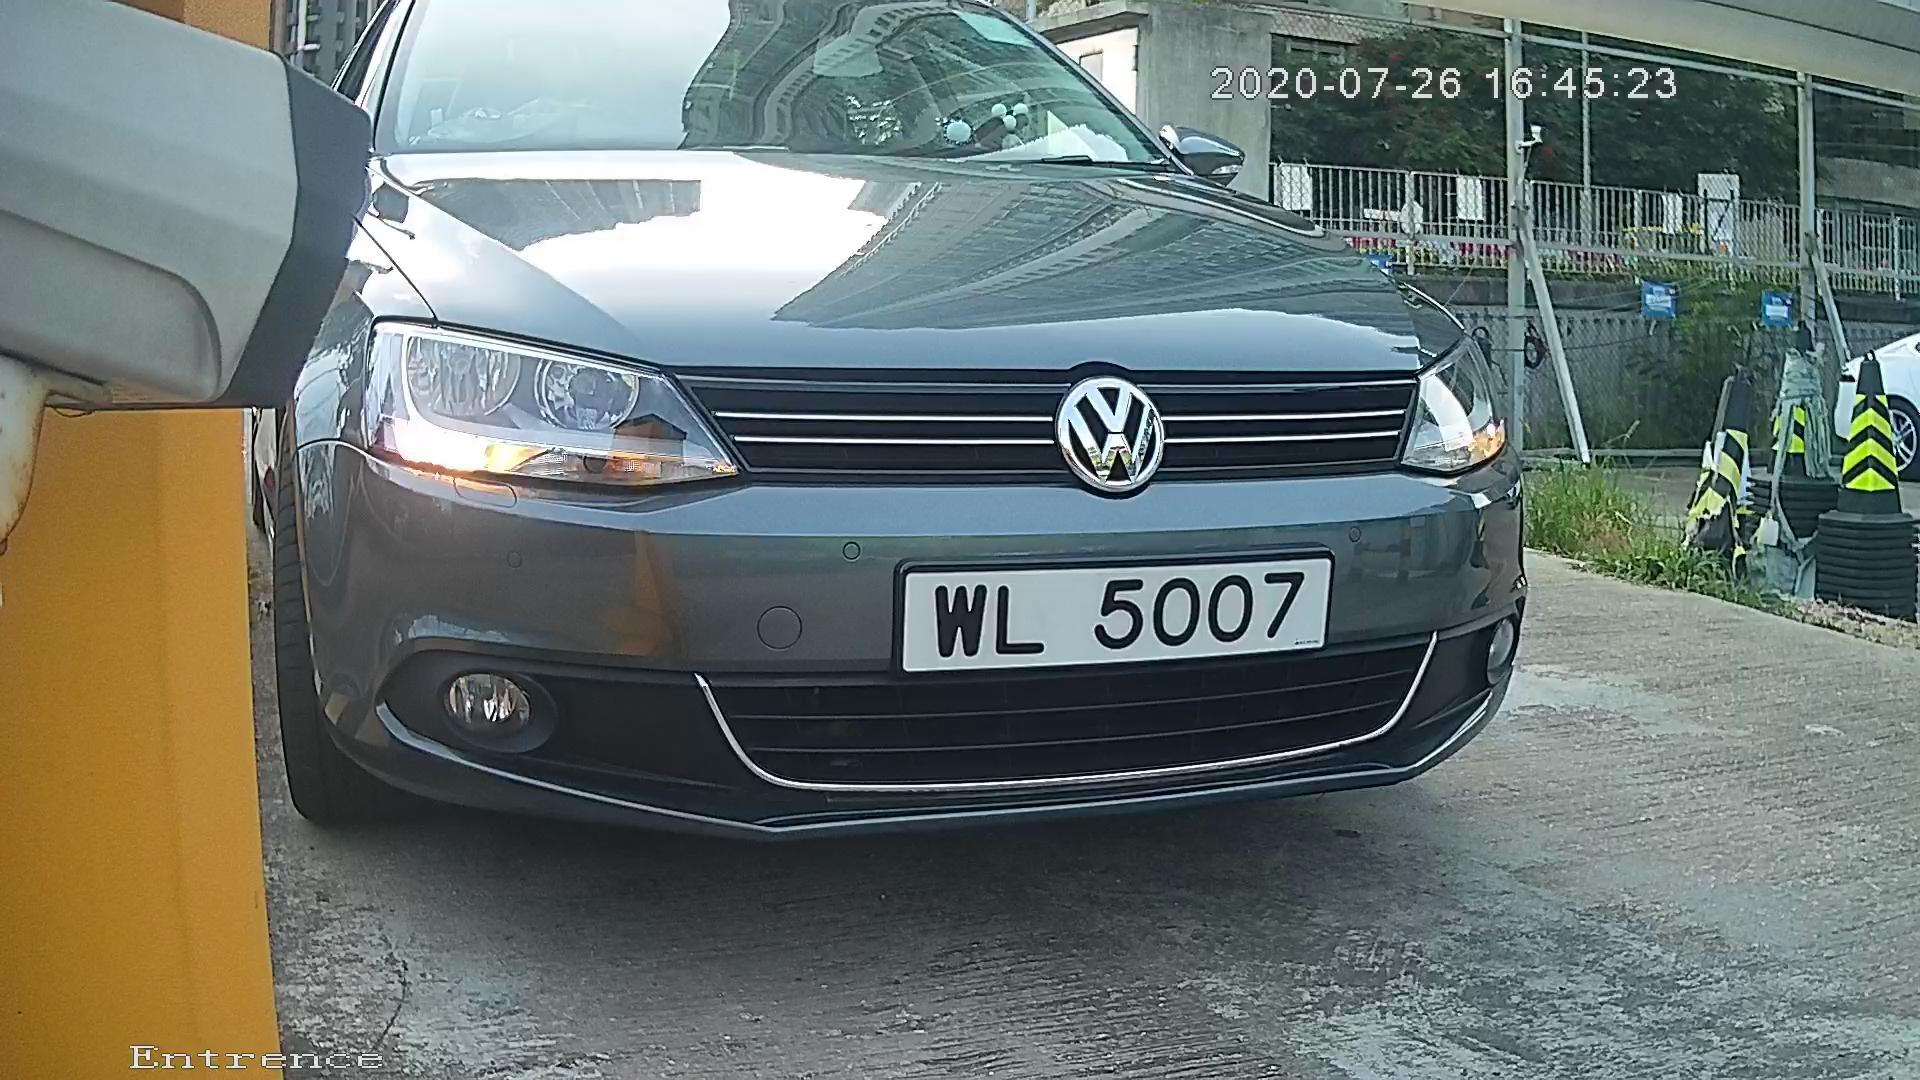privatecar: (258, 25, 1724, 858)
